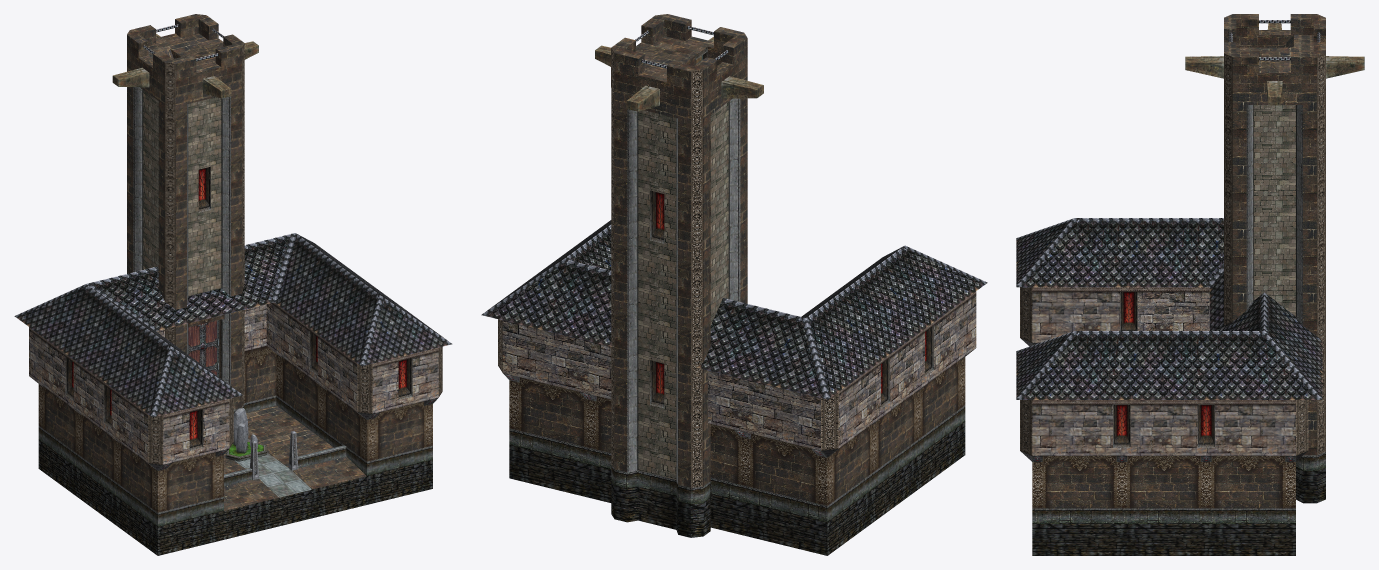
The model's file is tn4_build18.glb.
3 views of the same model, side by side, from view 1: azimuth 30°, elevation 25°; view 2: azimuth 150°, elevation 25°; view 3: azimuth 270°, elevation 25° (orthographic). The views are drawn at different scales.
Visible parts, largest first — view 1: tn4_build18-col; view 2: tn4_build18-col; view 3: tn4_build18-col.
Part boxes in pixels (x1,y1,x2,y2): tn4_build18-col: [14, 14, 452, 555]; tn4_build18-col: [481, 14, 987, 555]; tn4_build18-col: [1016, 14, 1364, 555].
Bounding box in the file's own units: 21.8 × 28 × 19.8.
23 materials, 23 textured.
